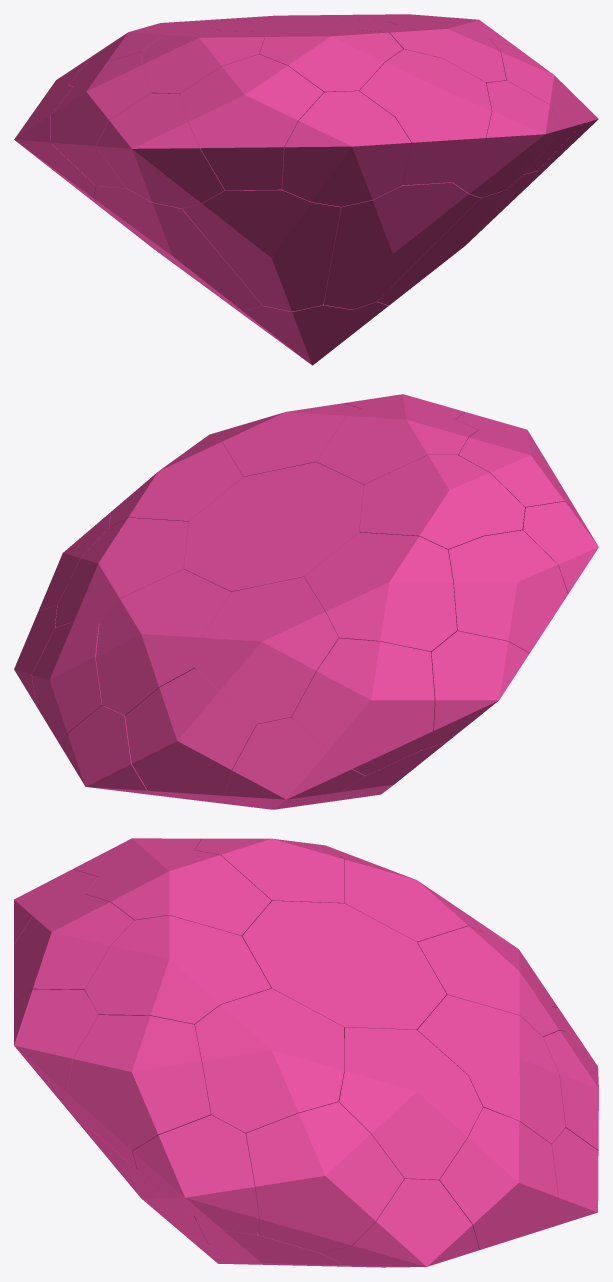
File: diamond.glb
The picture shows the model from 3 angles, top to bottom: view 1: azimuth 30°, elevation 25°; view 2: azimuth 150°, elevation 25°; view 3: azimuth 270°, elevation 25°; orthographic projection. The views are drawn at different scales.
Parts seen in each view (by area): view 1: Gem.003_cell.022, Gem.003_cell.024, Gem.003_cell.019, Gem.003_cell.018, Gem.003_cell.020, Gem.003_cell.023, Gem.003_cell.028, Gem.003_cell.015, Gem.003_cell.026, Gem.003_cell.021, Gem.003_cell.025, Gem.003_cell (+13 smaller); view 2: Gem.003_cell.001, Gem.003_cell.032, Gem.003_cell.033, Gem.003_cell.029, Gem.003_cell.004, Gem.003_cell.005, Gem.003_cell.025, Gem.003_cell.028, Gem.003_cell.009, Gem.003_cell.031, Gem.003_cell.021, Gem.003_cell.027 (+12 smaller); view 3: Gem.003_cell.001, Gem.003_cell.012, Gem.003_cell.013, Gem.003_cell.009, Gem.003_cell.016, Gem.003_cell.017, Gem.003_cell.005, Gem.003_cell.008, Gem.003_cell.011, Gem.003_cell.021, Gem.003_cell.007, Gem.003_cell.020 (+11 smaller).
Part boxes in pixels (x1=…): Gem.003_cell.022: x1=182, y1=189, x2=340, y2=311; Gem.003_cell.024: x1=180, y1=54, x2=323, y2=190; Gem.003_cell.019: x1=282, y1=91, x2=411, y2=206; Gem.003_cell.018: x1=323, y1=182, x2=480, y2=309; Gem.003_cell.020: x1=359, y1=49, x2=491, y2=185; Gem.003_cell.023: x1=96, y1=93, x2=224, y2=208; Gem.003_cell.028: x1=50, y1=52, x2=151, y2=188; Gem.003_cell.015: x1=452, y1=80, x2=561, y2=197; Gem.003_cell.026: x1=93, y1=186, x2=262, y2=310; Gem.003_cell.021: x1=259, y1=30, x2=403, y2=92; Gem.003_cell.025: x1=141, y1=31, x2=280, y2=94; Gem.003_cell: x1=231, y1=301, x2=388, y2=365; Gem.003_cell.001: x1=184, y1=462, x2=364, y2=591; Gem.003_cell.032: x1=292, y1=638, x2=434, y2=775; Gem.003_cell.033: x1=194, y1=577, x2=338, y2=724; Gem.003_cell.029: x1=304, y1=532, x2=456, y2=652; Gem.003_cell.004: x1=125, y1=668, x2=257, y2=801; Gem.003_cell.005: x1=95, y1=569, x2=231, y2=715; Gem.003_cell.025: x1=359, y1=455, x2=524, y2=550; Gem.003_cell.028: x1=448, y1=530, x2=567, y2=653; Gem.003_cell.009: x1=55, y1=517, x2=188, y2=627; Gem.003_cell.031: x1=225, y1=717, x2=365, y2=804; Gem.003_cell.021: x1=316, y1=407, x2=477, y2=485; Gem.003_cell.027: x1=421, y1=631, x2=529, y2=749; Gem.003_cell.001: x1=242, y1=901, x2=446, y2=1029; Gem.003_cell.012: x1=246, y1=1102, x2=404, y2=1252; Gem.003_cell.013: x1=195, y1=988, x2=344, y2=1134; Gem.003_cell.009: x1=338, y1=1027, x2=482, y2=1180; Gem.003_cell.016: x1=67, y1=1015, x2=210, y2=1170; Gem.003_cell.017: x1=85, y1=915, x2=271, y2=1026; Gem.003_cell.005: x1=417, y1=995, x2=565, y2=1143; Gem.003_cell.008: x1=438, y1=1107, x2=558, y2=1249; Gem.003_cell.011: x1=132, y1=1115, x2=259, y2=1234; Gem.003_cell.021: x1=85, y1=850, x2=271, y2=935; Gem.003_cell.007: x1=321, y1=1179, x2=479, y2=1267; Gem.003_cell.020: x1=14, y1=894, x2=134, y2=1009.
Size of the model in its own units: 1.86 by 1.29 by 1.75.
